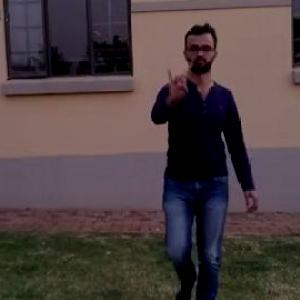takeoff-hand: (164, 59, 195, 109)
